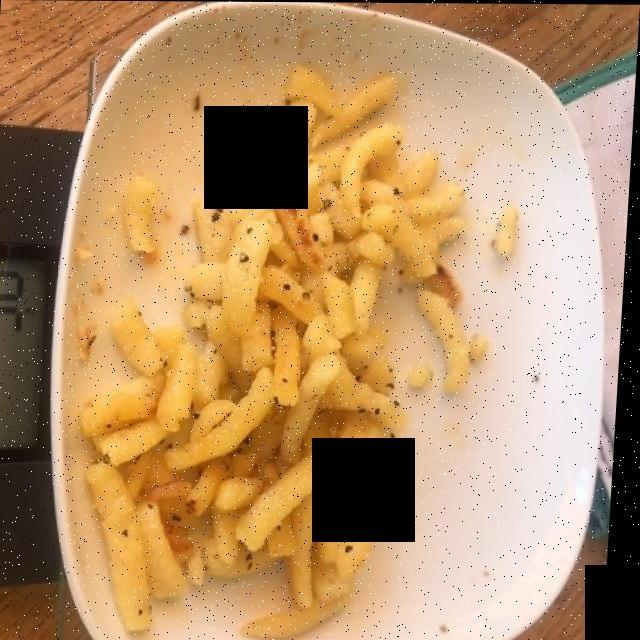spaetzle: (90, 66, 479, 621)
